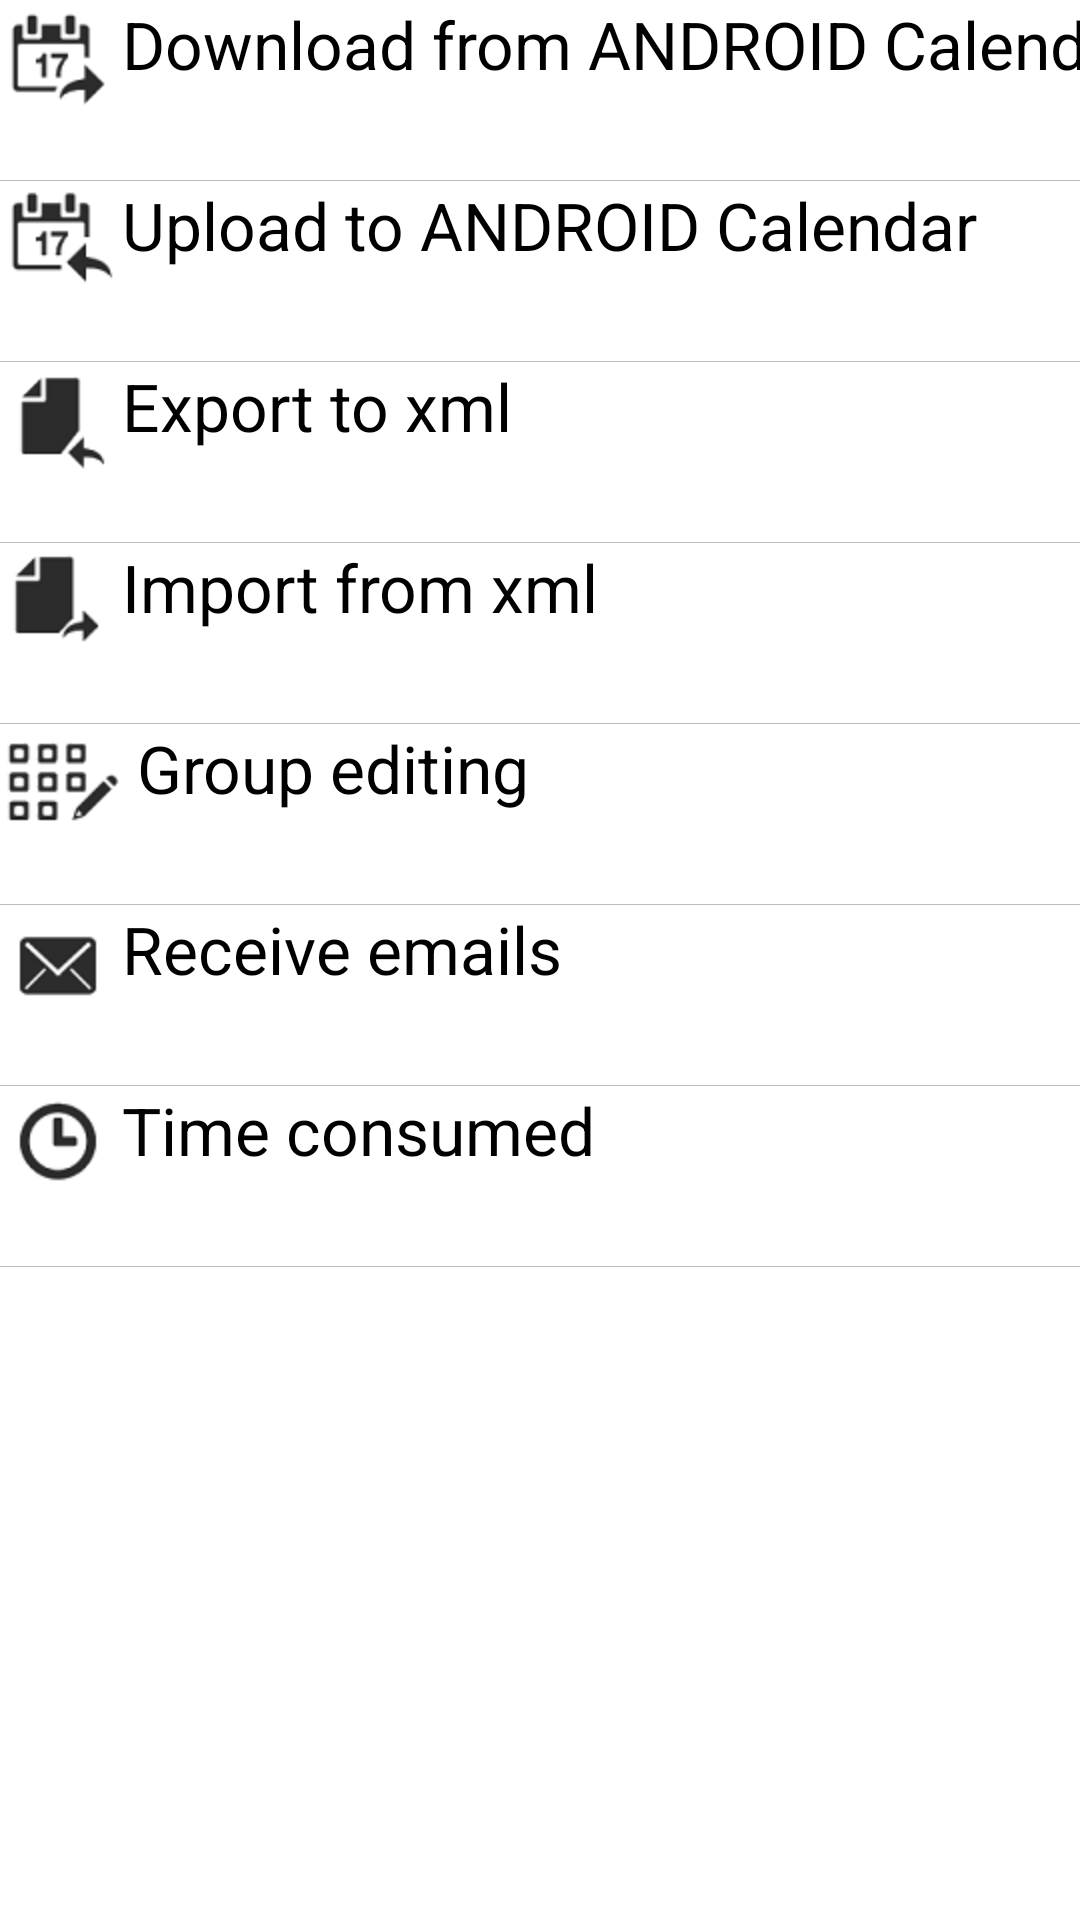

Screen size 1080×1920. Icon name, then its box in pixels as (left=x1, top=y1, right=x2, bottom=y2):
check mail: (left=19, top=936, right=97, bottom=996)
